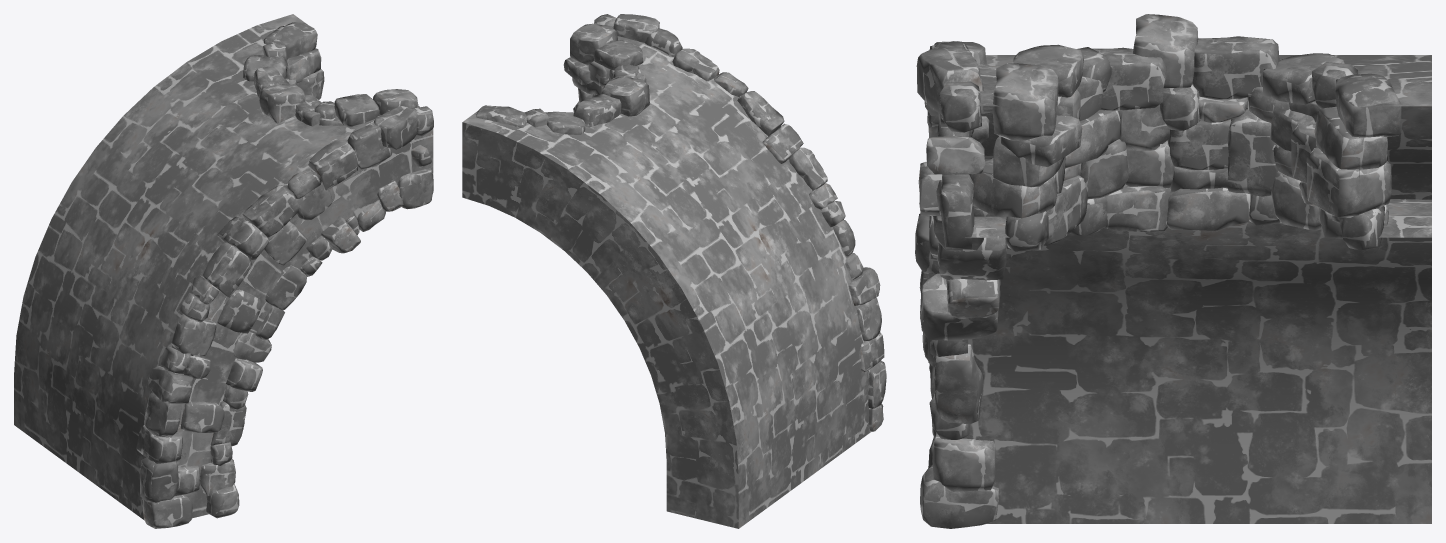
The model's file is Half_Roof_Hole_SidePiece_Left.fbx.
3 renders of one model, left to right at view 1: azimuth 30°, elevation 25°; view 2: azimuth 150°, elevation 25°; view 3: azimuth 270°, elevation 25°, orthographic. The views are drawn at different scales.
Visible parts, largest first — view 1: Half_Roof_Hole_02, Rocks; view 2: Half_Roof_Hole_02, Rocks; view 3: Half_Roof_Hole_02, Rocks.
Part boxes in pixels (bbox=[...]): Half_Roof_Hole_02: bbox=[14, 14, 433, 519]; Rocks: bbox=[136, 22, 433, 528]; Half_Roof_Hole_02: bbox=[462, 36, 870, 528]; Rocks: bbox=[476, 14, 886, 431]; Half_Roof_Hole_02: bbox=[963, 55, 1431, 523]; Rocks: bbox=[915, 14, 1401, 528].
Size of the model in its own units: 6.06 by 6.99 by 5.35.
